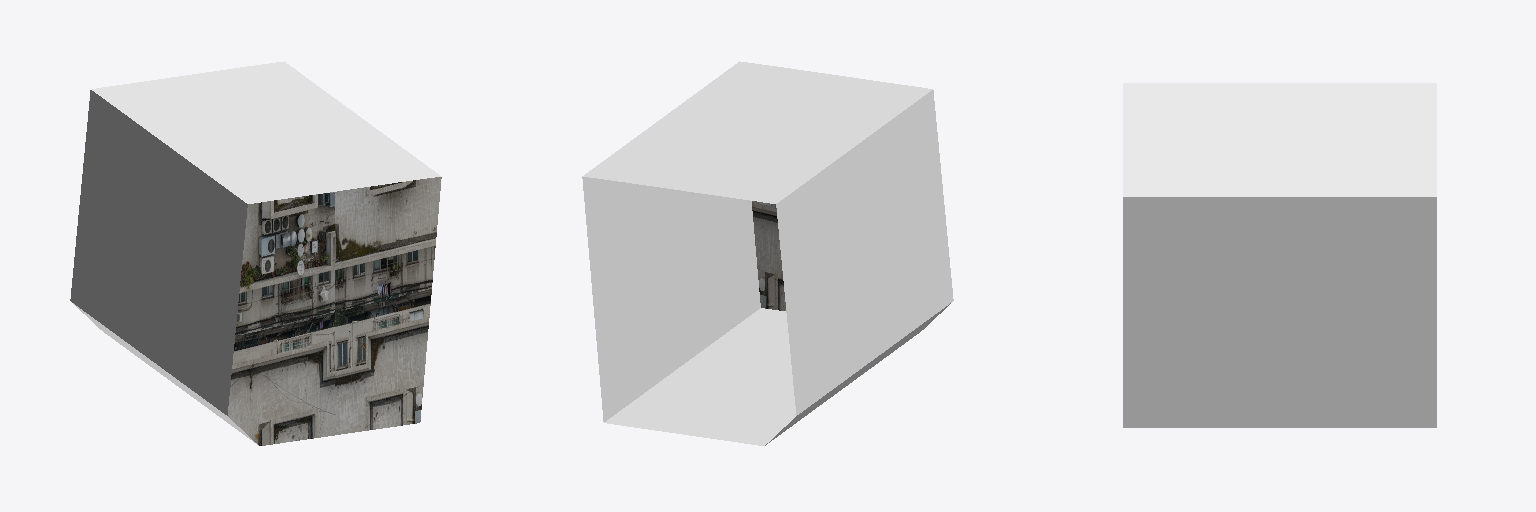
3 renders of one model, left to right at view 1: azimuth 30°, elevation 25°; view 2: azimuth 150°, elevation 25°; view 3: azimuth 270°, elevation 25°, orthographic.
Visible parts, largest first — view 1: Building; view 2: Building; view 3: Building.
Boxes of the visible parts, <box> form: Building: <box>70,61,441,445</box>; Building: <box>582,61,953,445</box>; Building: <box>1123,83,1436,427</box>.
Size of the model in its own units: 18.87 by 21.95 by 24.
Materials: 2 (1 with a texture image).